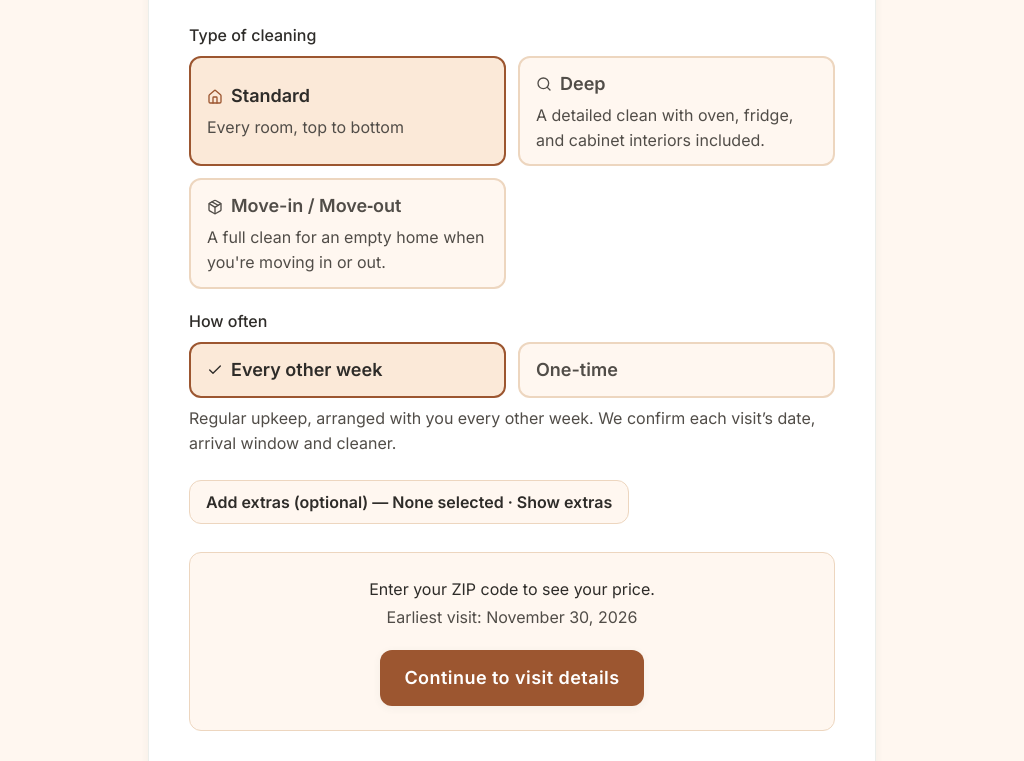
Test: V5: frequency is explicit and Services preselection flows into the total (visual report) › marks the selected frequency with a check and explains recurring confirmation
(page scrolled)
Check: the icon below "How often" is shown, box [207,362,223,378]
Check: the text "We confirm each visit.s date, arrival window and cleaner" is shown, box [189,408,815,453]
What coordinates should you click on to do the following:
click the radio button labelled "One-time"
I would click on:
 (577, 369)
Its box is [518,342,835,398].
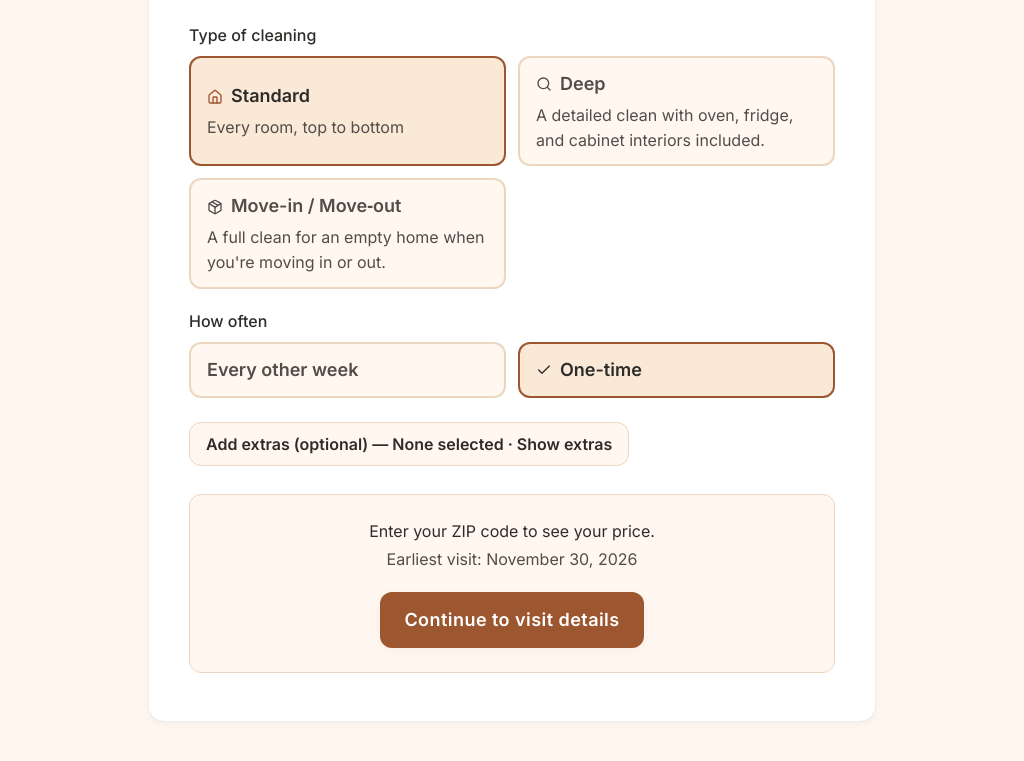
Check: the text "We confirm each visit.s date, arrival window and cleaner" is gone
